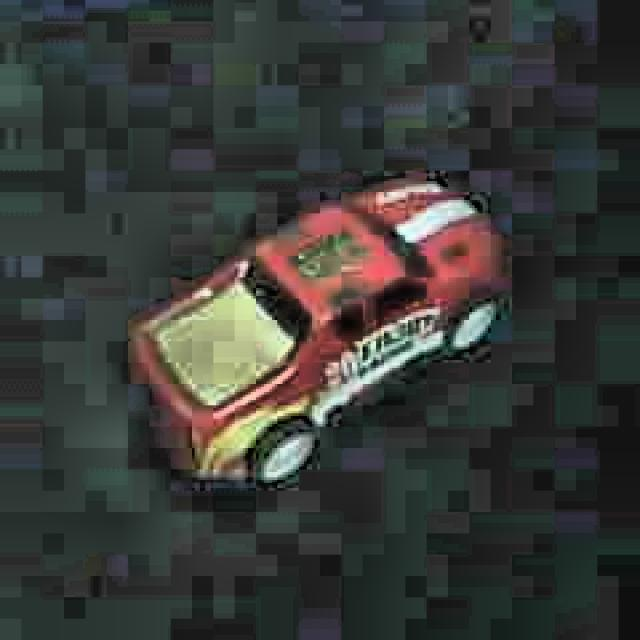car: (121, 174, 506, 498)
